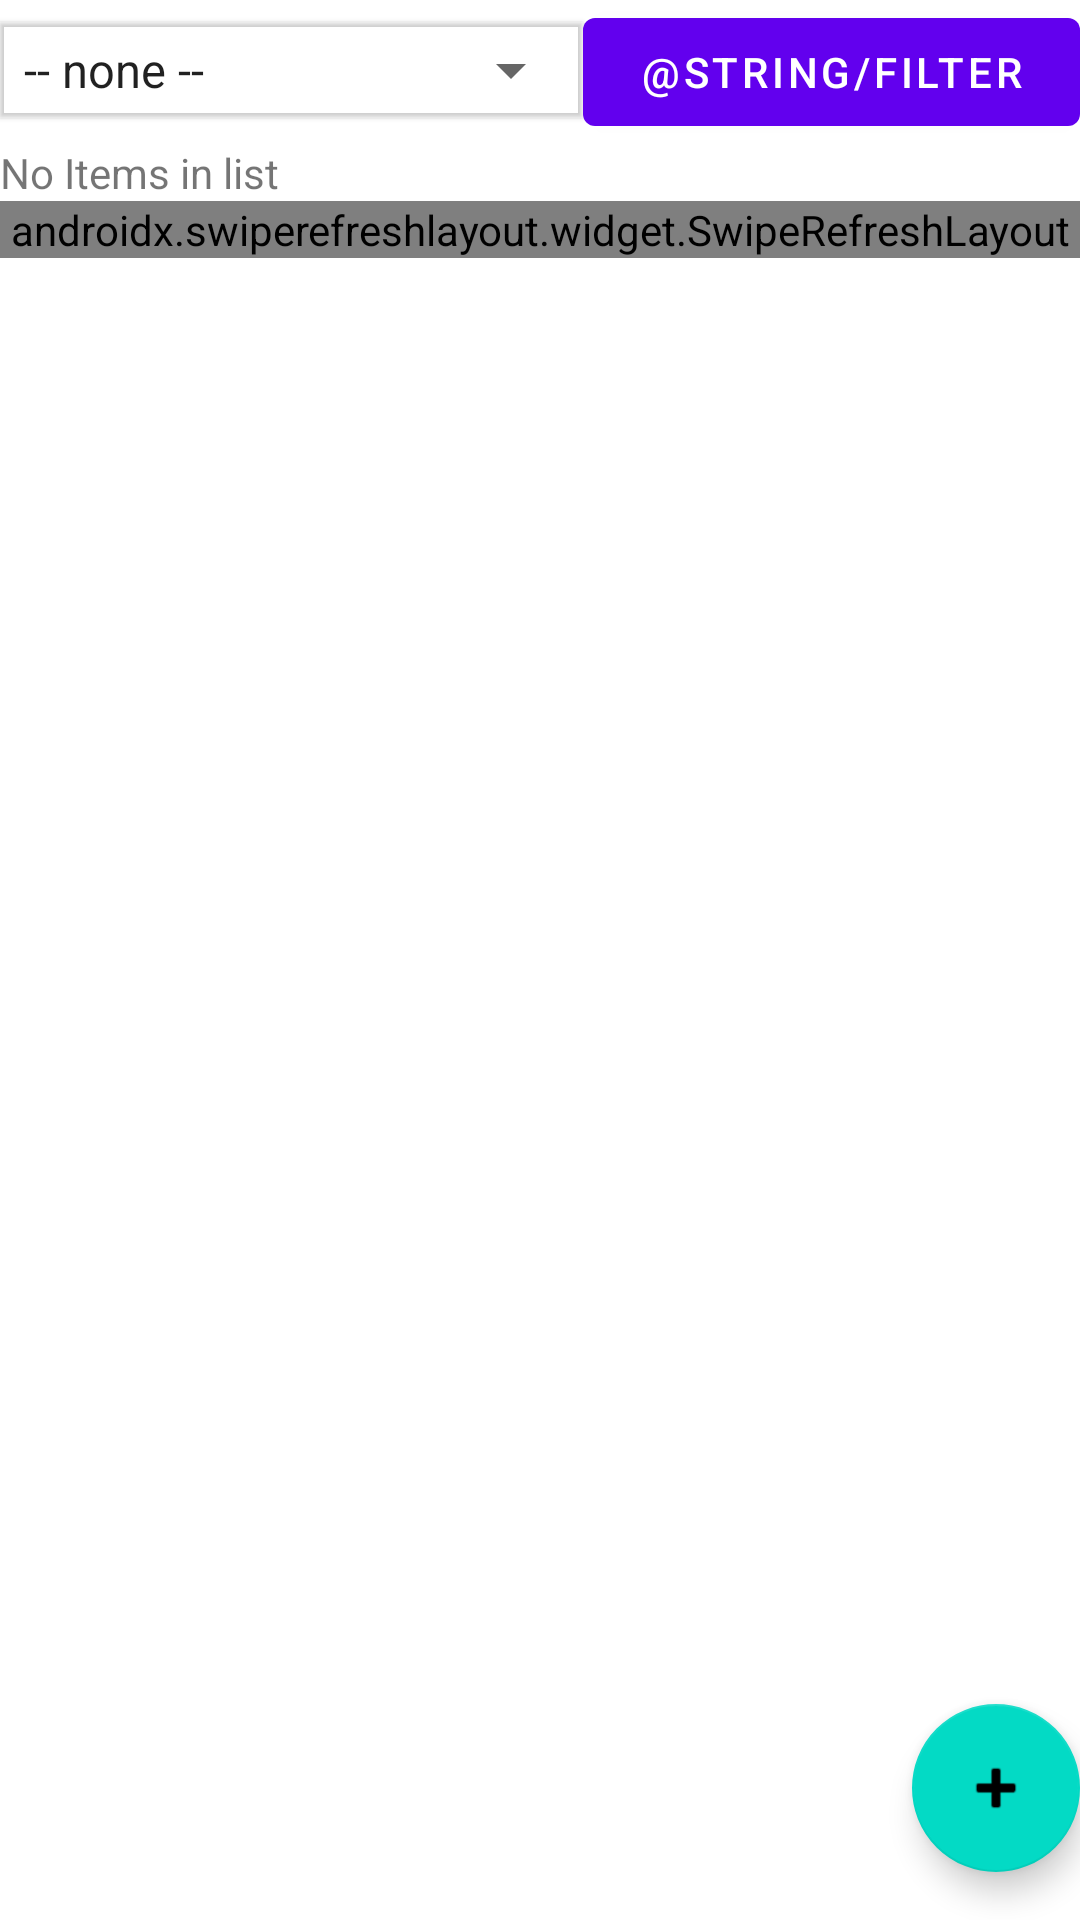

Icon bounding boxes for this 1080 × 1920 phone screenshot, format [x1, y1, x2, y2]:
Add item: [912, 1704, 1080, 1872]
